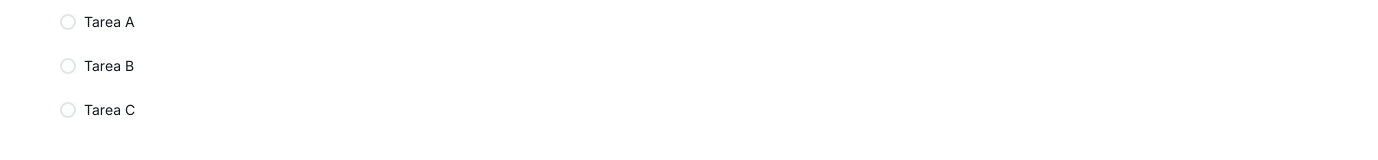
Test: TaskRow — selección múltiple por teclado (bloque 5) › X selecciona la fila señalada
This screenshot has width=1378, height=160.
Focus the option "Tarea A" at (696, 22), box [56,10,1336,34]
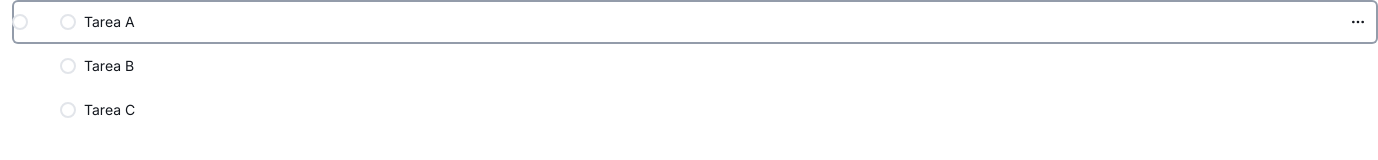
Press x
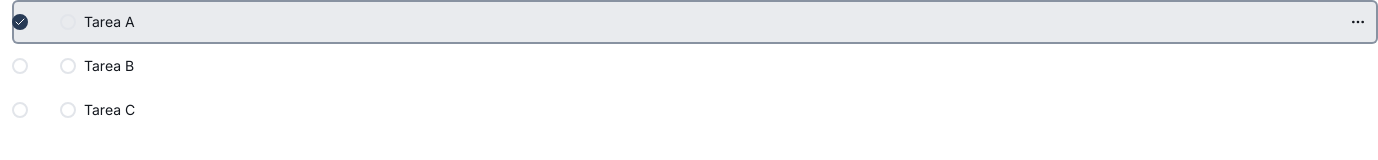
Now the checkbox named "Quitar Tarea A de la selección" is shown, box [12,14,28,30]
